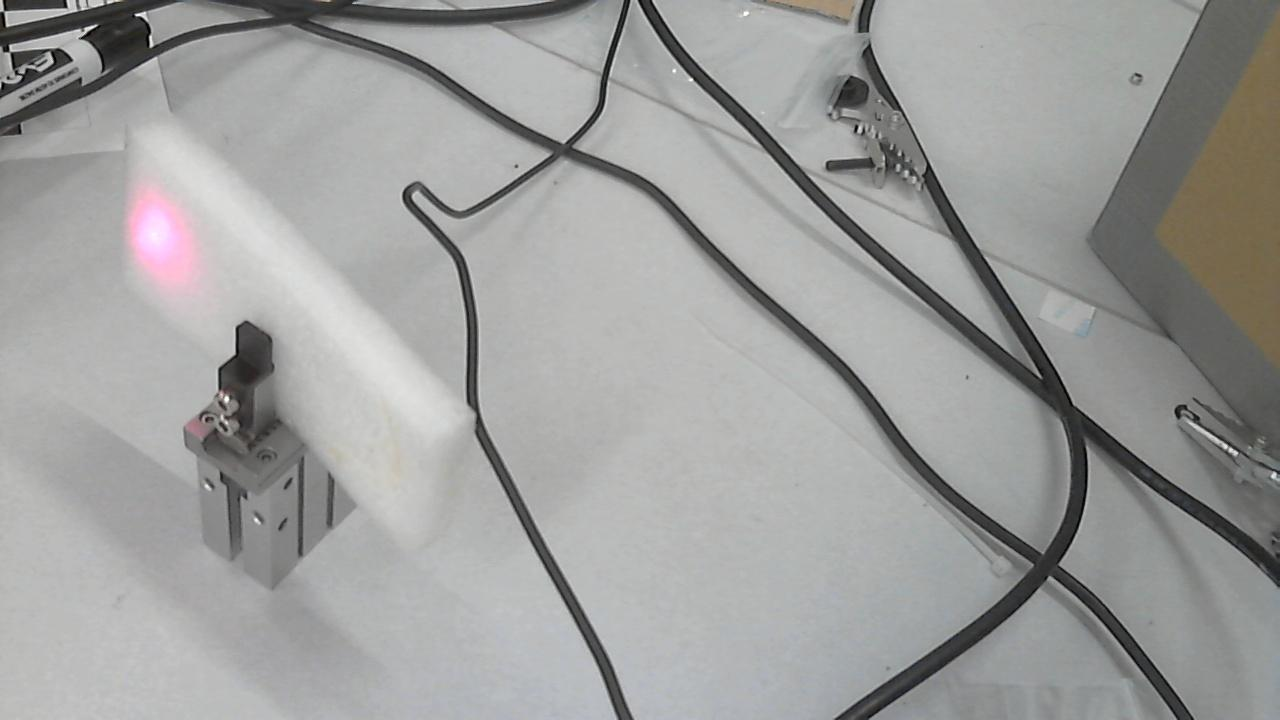Object white rectangular foam block - Material Foam - Color white - Pdfname LpbA: (103, 171, 216, 297)
